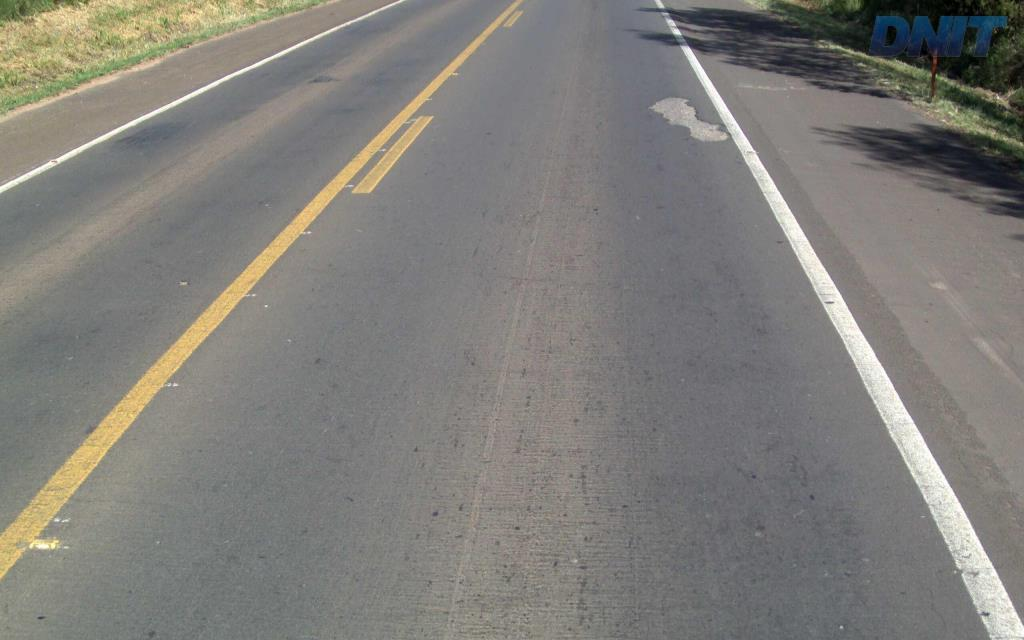pothole: (643, 88, 730, 145)
